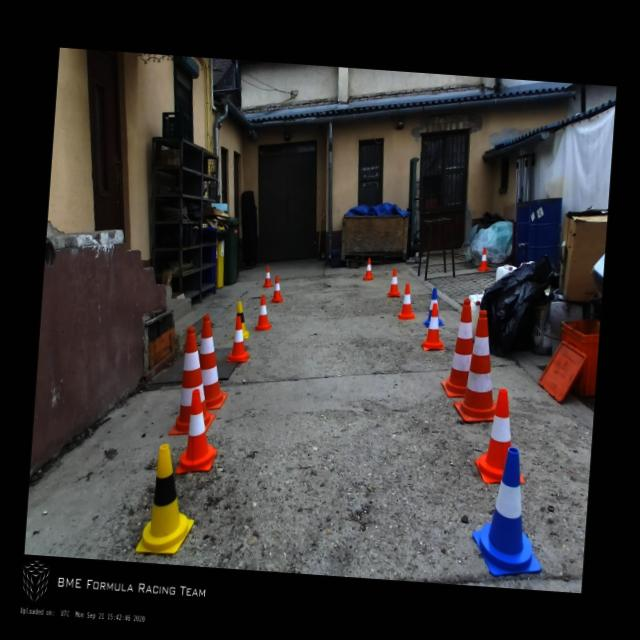blue_cone: (469, 445, 549, 580), (422, 286, 446, 328)
large_orange_cone: (169, 326, 222, 438), (452, 307, 502, 425), (194, 313, 233, 411), (440, 296, 476, 398)
orange_cone: (472, 387, 528, 486), (175, 386, 220, 475), (225, 316, 252, 364), (421, 302, 446, 352), (396, 282, 416, 321), (253, 294, 273, 330), (387, 267, 402, 298), (476, 246, 491, 272), (270, 276, 284, 302), (362, 256, 375, 282), (262, 264, 274, 287)
yellow_cone: (136, 441, 200, 556), (232, 300, 252, 338)
